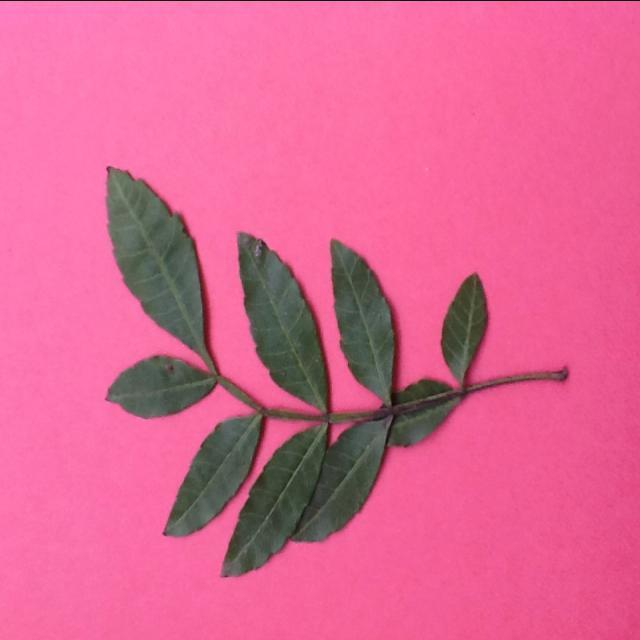foliage: (103, 166, 217, 366), (218, 420, 334, 582), (235, 231, 333, 422), (288, 409, 398, 547), (162, 408, 270, 544), (326, 236, 398, 402), (104, 354, 218, 419), (388, 369, 468, 453), (436, 264, 491, 386)
